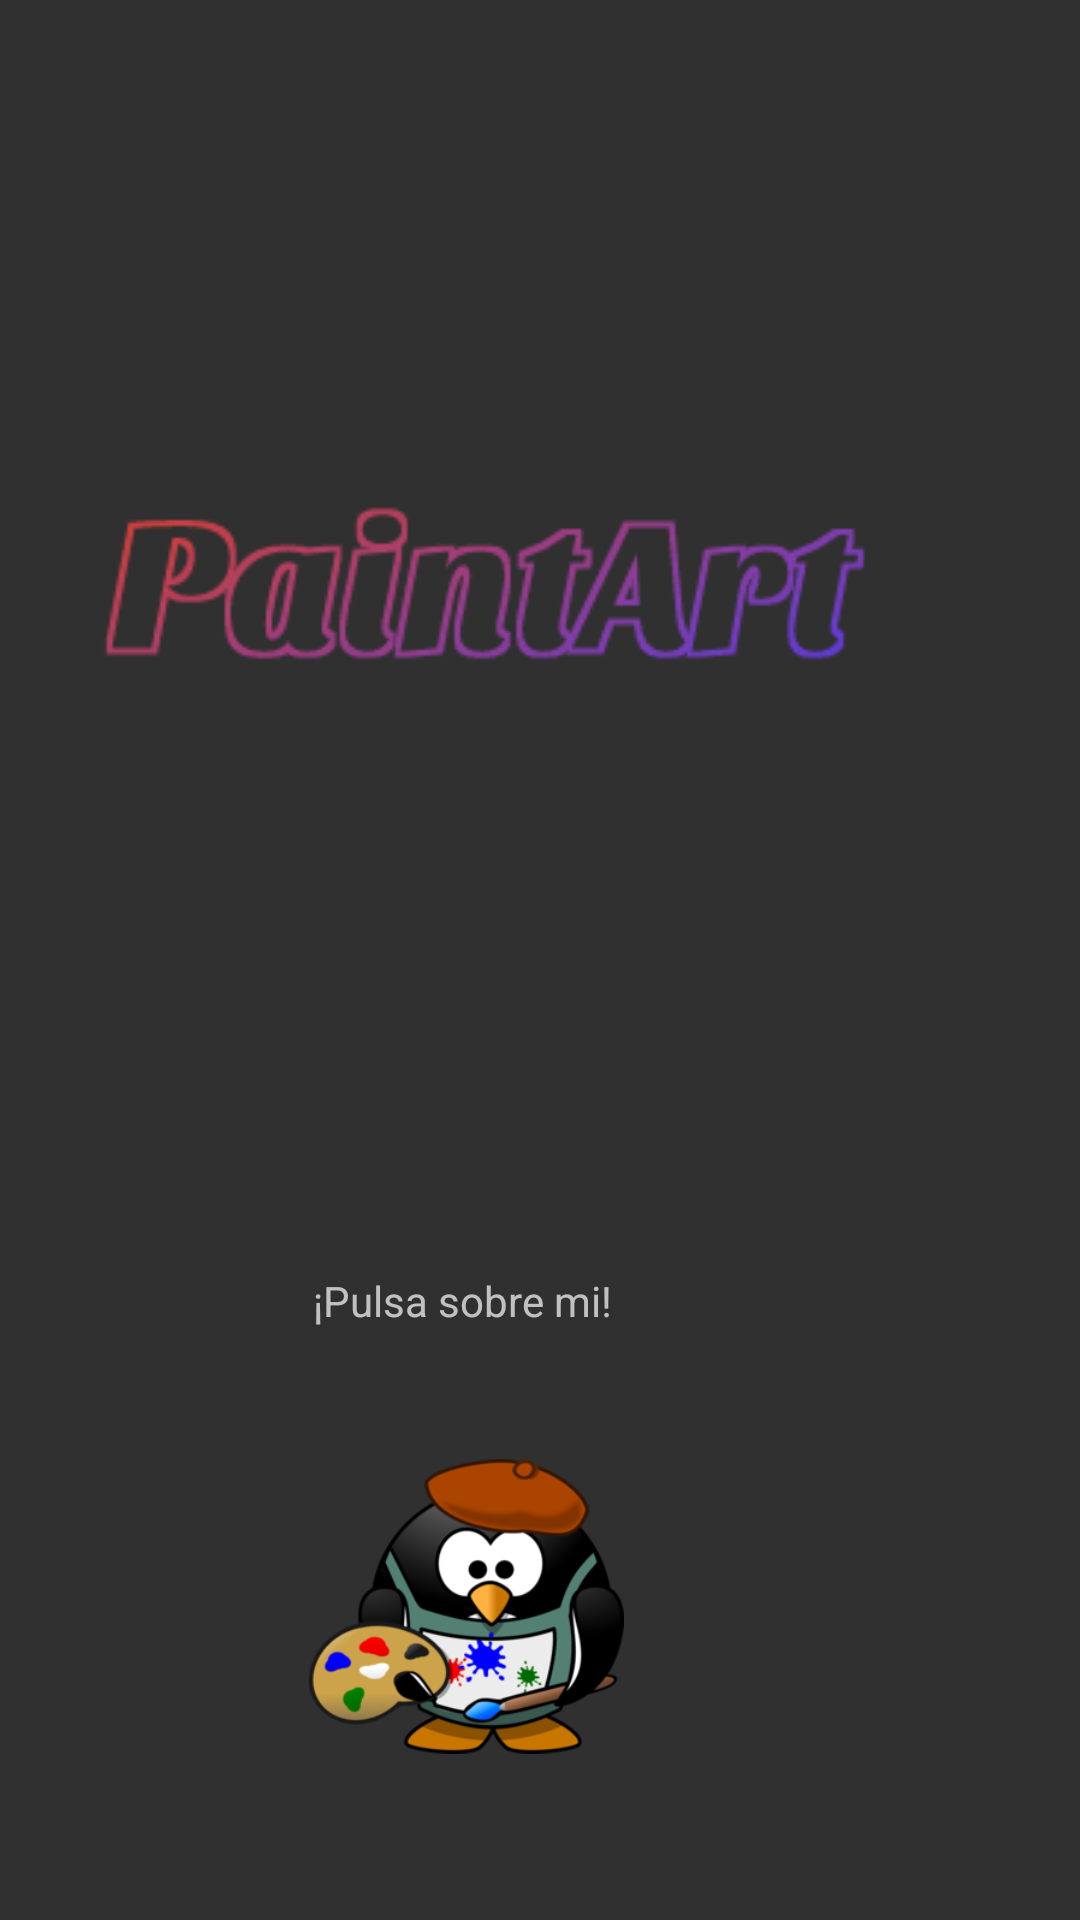

Icons on this 1080px×1920px Android screen, each with the point to tap as point (x, y):
painter penguin: point (468, 1606)
